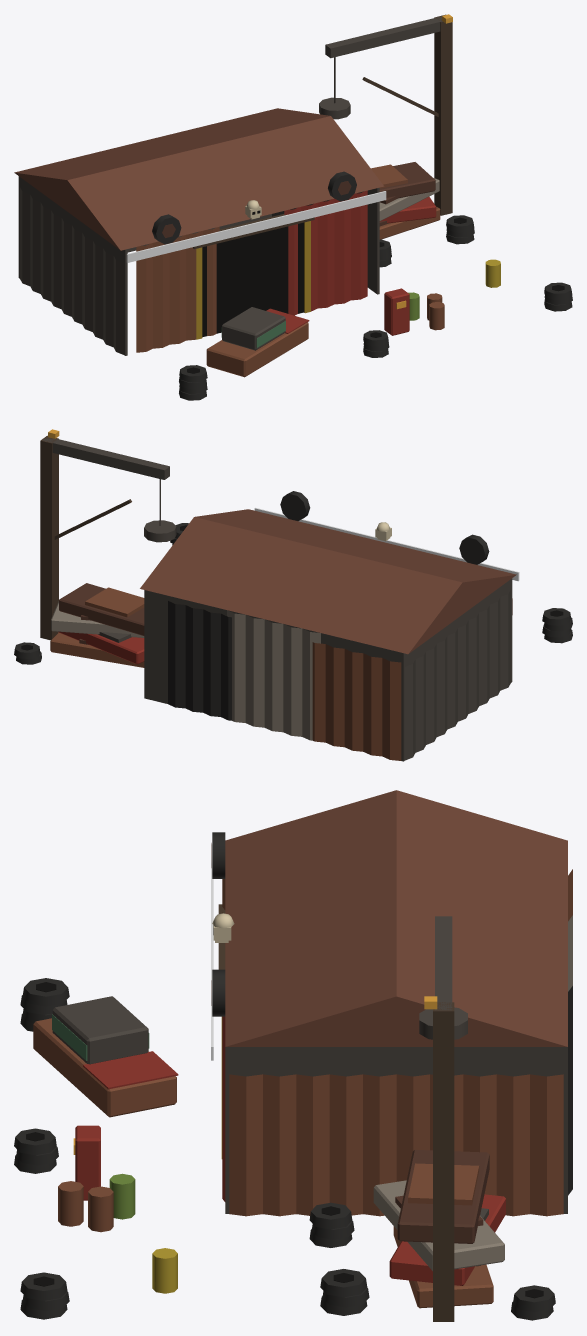
3 renders of one model, top to bottom at view 1: azimuth 30°, elevation 25°; view 2: azimuth 150°, elevation 25°; view 3: azimuth 270°, elevation 25°, orthographic. The views are drawn at different scales.
Parts seen in each view (by area): view 1: raider_building_garage; view 2: raider_building_garage; view 3: raider_building_garage.
Boxes of the visible parts, x1=… form: raider_building_garage: x1=14, y1=14, x2=572, y2=400; raider_building_garage: x1=14, y1=429, x2=572, y2=761; raider_building_garage: x1=14, y1=790, x2=572, y2=1321.
Size of the model in its own units: 17.15 by 8.2 by 13.05.
